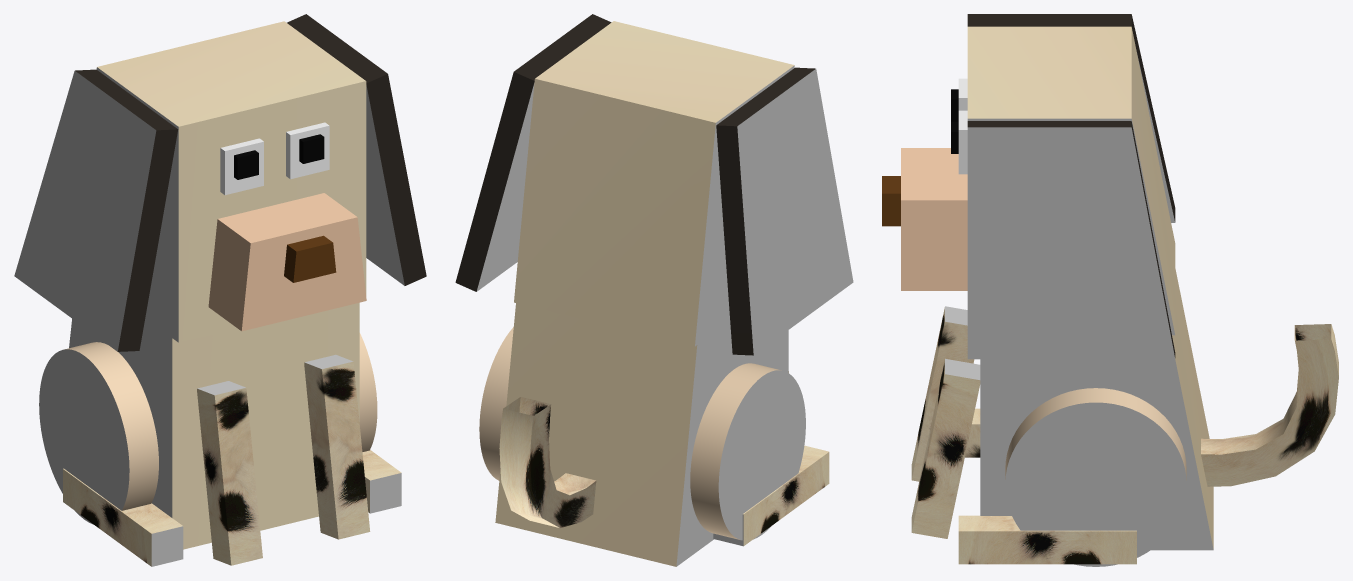
The model's file is dogpanda3.dae.
3 renders of one model, left to right at view 1: azimuth 30°, elevation 25°; view 2: azimuth 150°, elevation 25°; view 3: azimuth 270°, elevation 25°, orthographic. The views are drawn at different scales.
Visible parts, largest first — view 1: BODY&HEAD, 回転 (×2), 回転-Ring, NOSE, Ring, EYE (×2); view 2: BODY&HEAD, 回転, 回転-Ring, 自由曲面, Ring; view 3: 回転 (×2), BODY&HEAD, 回転-Ring, NOSE, 自由曲面, Ring, EYE (×2).
Part boxes in pixels (left/top/right/bottom): BODY&HEAD: left=69, top=21, right=366, bottom=549; 回転 (×2): left=14, top=14, right=426, bottom=565; 回転-Ring: left=39, top=333, right=377, bottom=524; NOSE: left=208, top=193, right=366, bottom=331; Ring: left=63, top=450, right=401, bottom=566; EYE (×2): left=220, top=122, right=329, bottom=195; BODY&HEAD: left=495, top=21, right=794, bottom=566; 回転: left=455, top=14, right=853, bottom=355; 回転-Ring: left=479, top=327, right=805, bottom=540; 自由曲面: left=499, top=397, right=596, bottom=527; Ring: left=713, top=445, right=829, bottom=546; 回転 (×2): left=911, top=14, right=1175, bottom=538; BODY&HEAD: left=967, top=26, right=1213, bottom=550; 回転-Ring: left=1005, top=388, right=1186, bottom=566; NOSE: left=882, top=148, right=967, bottom=290; 自由曲面: left=1201, top=324, right=1338, bottom=486; Ring: left=958, top=408, right=1136, bottom=564; EYE (×2): left=951, top=78, right=967, bottom=174.
Size of the model in its own units: 0.3537 by 0.4748 by 0.4515.
Materials: 14 (4 with a texture image).
